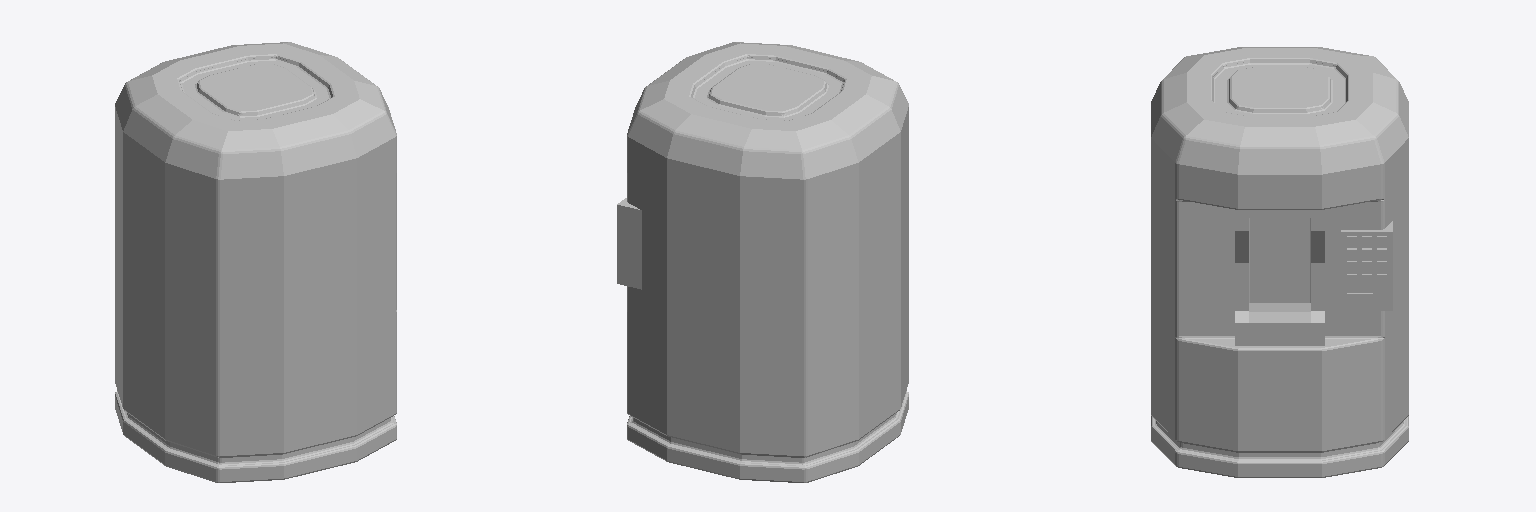
The model's file is BatteryRecycler.obj.
The picture shows the model from 3 angles: view 1: azimuth 30°, elevation 25°; view 2: azimuth 150°, elevation 25°; view 3: azimuth 270°, elevation 25°; orthographic projection.
Visible parts, largest first — view 1: Cube.001; view 2: Cube.001, Cube.002; view 3: Cube.001, Cube, Cube.002, Cube.003.
Part boxes in pixels (left/top/right/bottom): Cube.001: left=115, top=42, right=396, bottom=482; Cube.001: left=627, top=42, right=908, bottom=482; Cube.002: left=617, top=198, right=641, bottom=289; Cube.001: left=1151, top=47, right=1408, bottom=477; Cube: left=1235, top=210, right=1324, bottom=345; Cube.002: left=1341, top=221, right=1392, bottom=310; Cube.003: left=1347, top=236, right=1386, bottom=284.
Bounding box in the file's own units: 6 × 8.65 × 6.